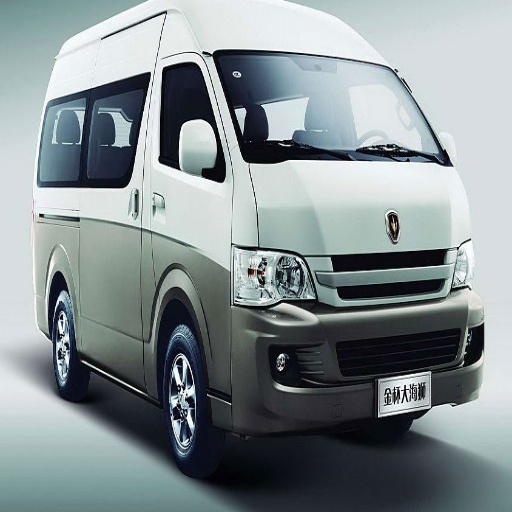front_bumper: (209, 247, 484, 428)
front_right_door: (147, 53, 233, 224)
front_right_light: (237, 248, 314, 307)
trunk: (29, 190, 182, 325)
